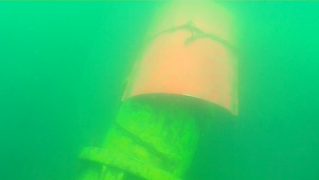leak: (120, 1, 238, 117)
pipe: (79, 94, 215, 180)
